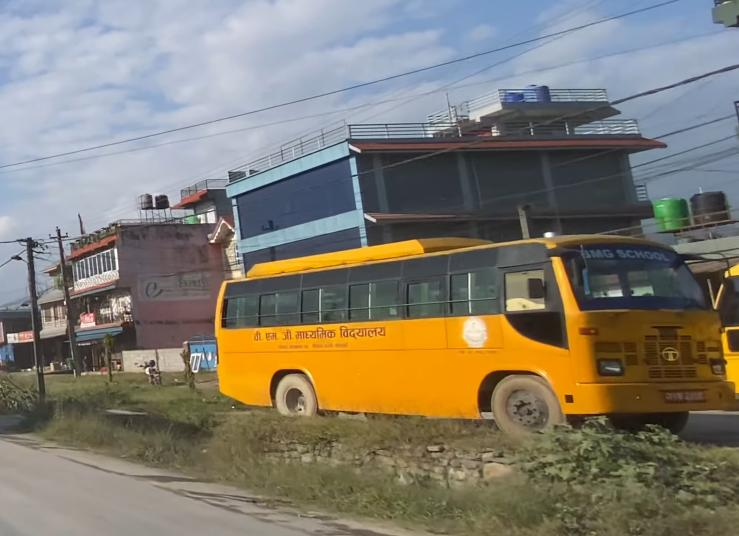school_bus: (208, 228, 739, 449)
